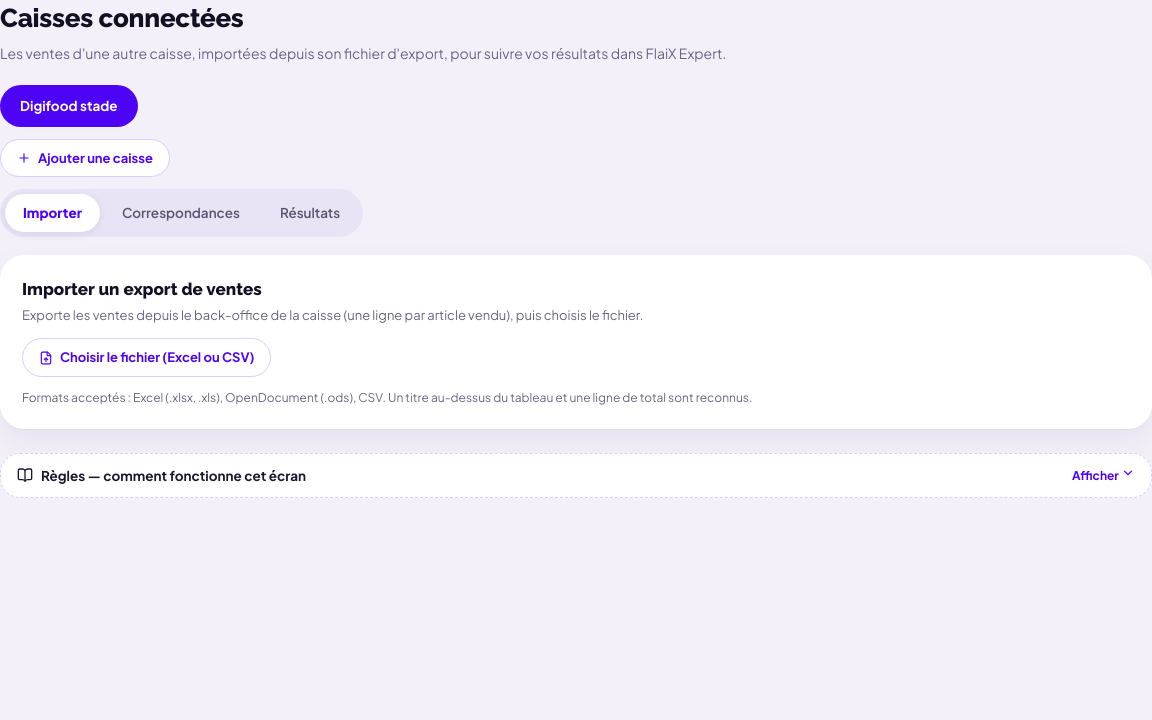
Test: caisses connectées › correspondances suggérées : lien automatique signalé ; suggestion acceptée seule, ou toutes d'un coup
Click the button "Correspondances" at x=181, y=213, box [104, 194, 258, 232]
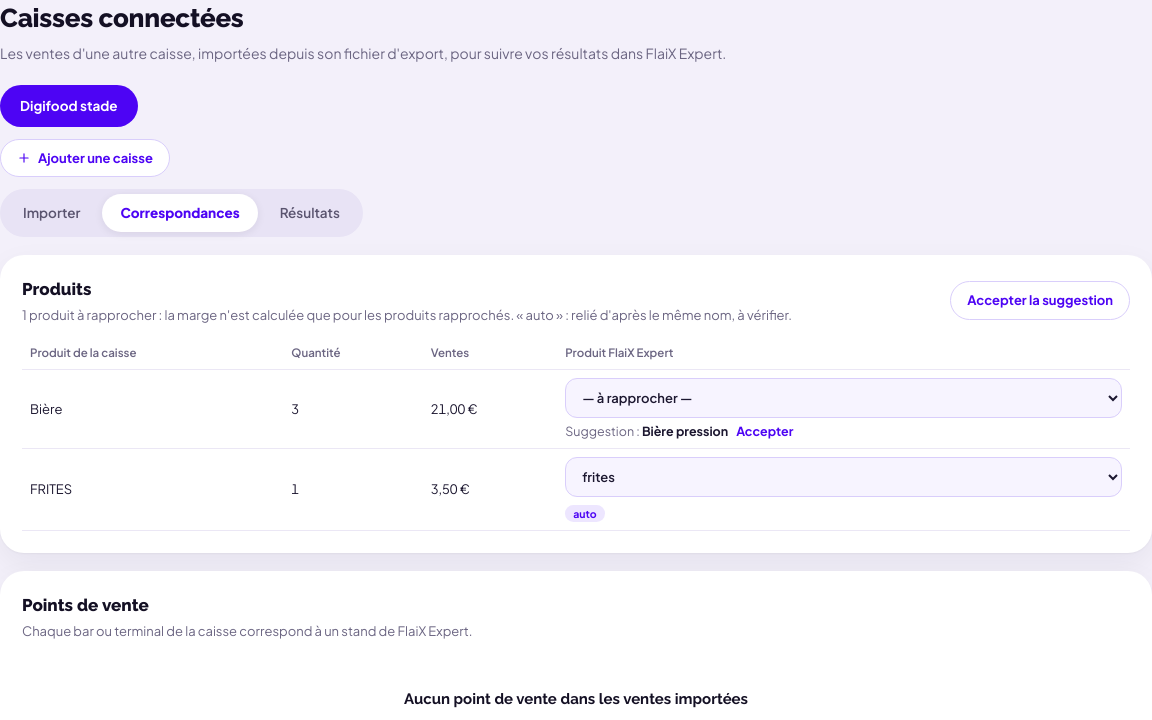
Check: the text "auto" is shown, box [565, 505, 605, 522]
Check: the dropdown named "Correspondance : FRITES" shows "frites", box [565, 457, 1122, 497]
Check: the text "Bière pression" is shown, box [642, 423, 728, 439]
Click the button with aria-label "Accepter la suggestion Bière pression" at x=765, y=431, box [736, 422, 793, 440]
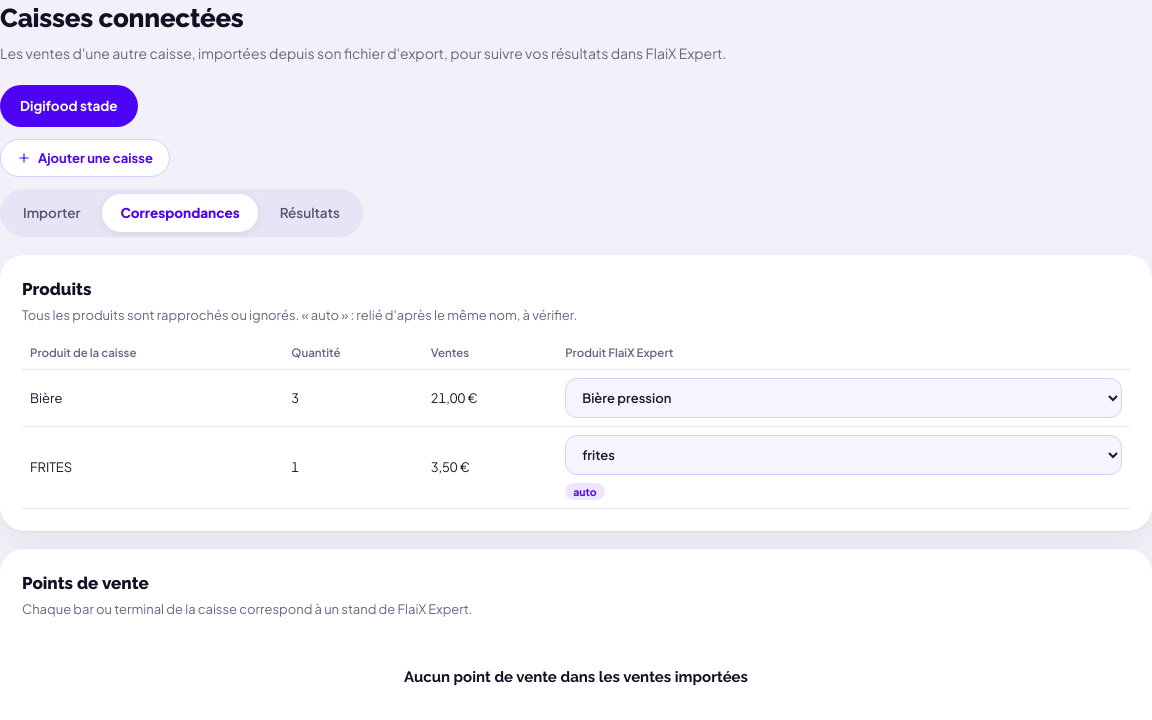
Check: the button "Accepter la suggestion" is gone
